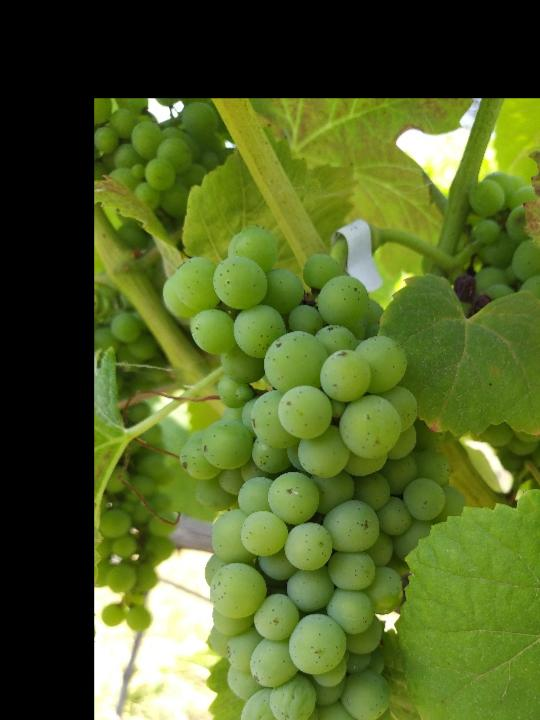grape: (161, 224, 472, 720)
